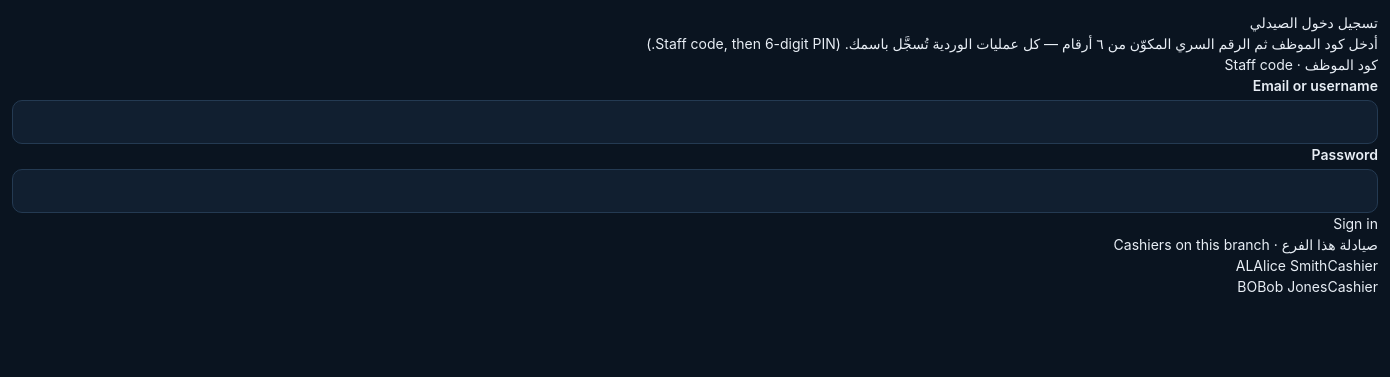
Test: Cashier-Forbidden Information walling (T079) › cashier PIN surface does not expose forbidden data after selection
Click the button with test id "roster-item-0".
click(1307, 266)  # box [1236, 255, 1378, 276]
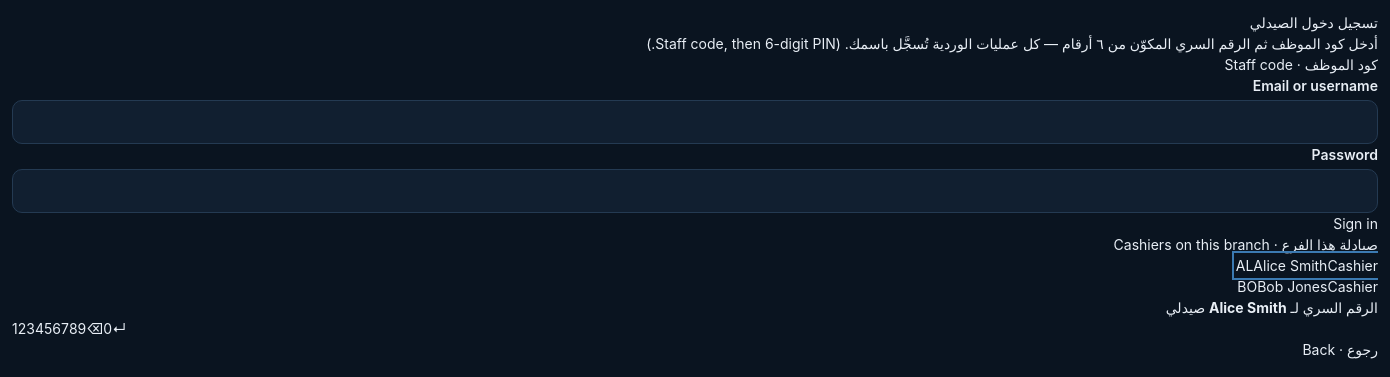
Expected: the element with test id "pin-section" is shown, [12, 297, 1378, 360]
